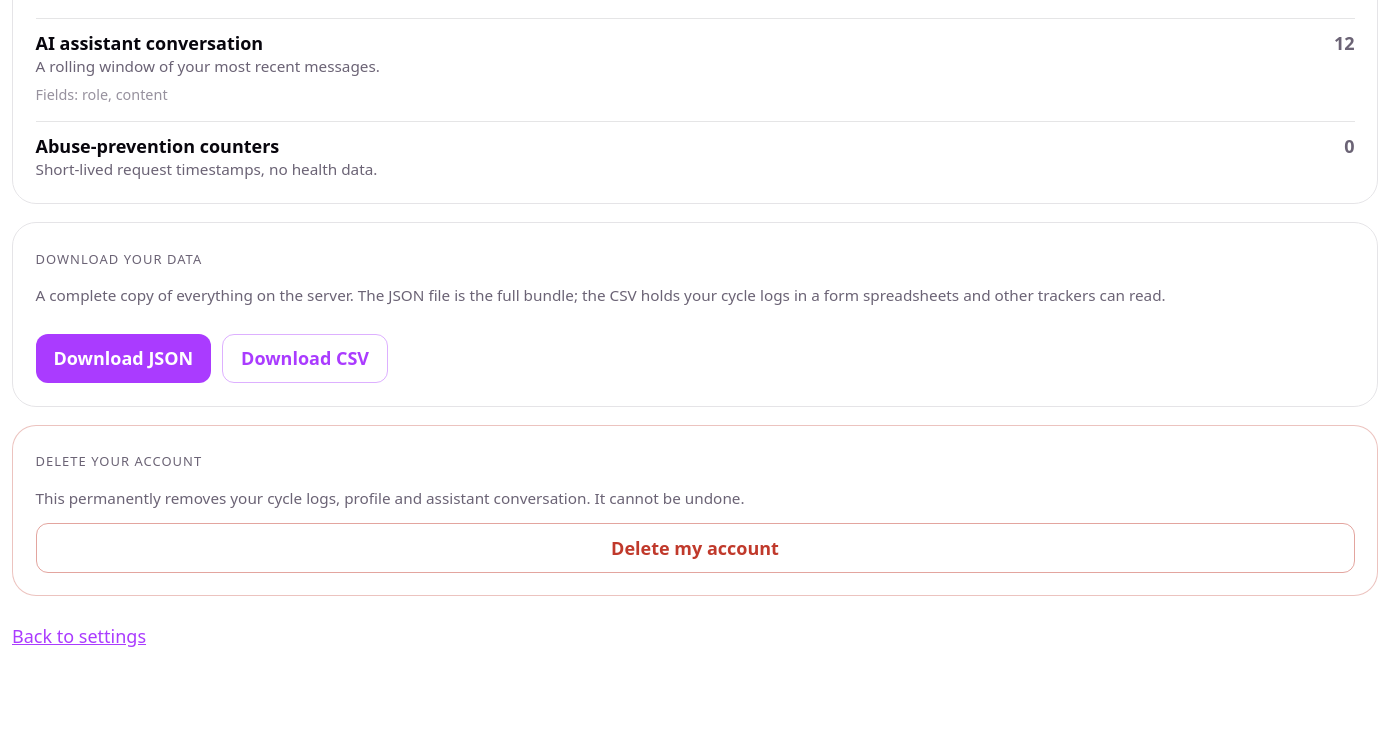
Test: deletion › shows the server's warning and what will be destroyed
(page scrolled)
Click the button "Delete my account": (695, 548) top-left (36, 523), bottom-right (1354, 572)
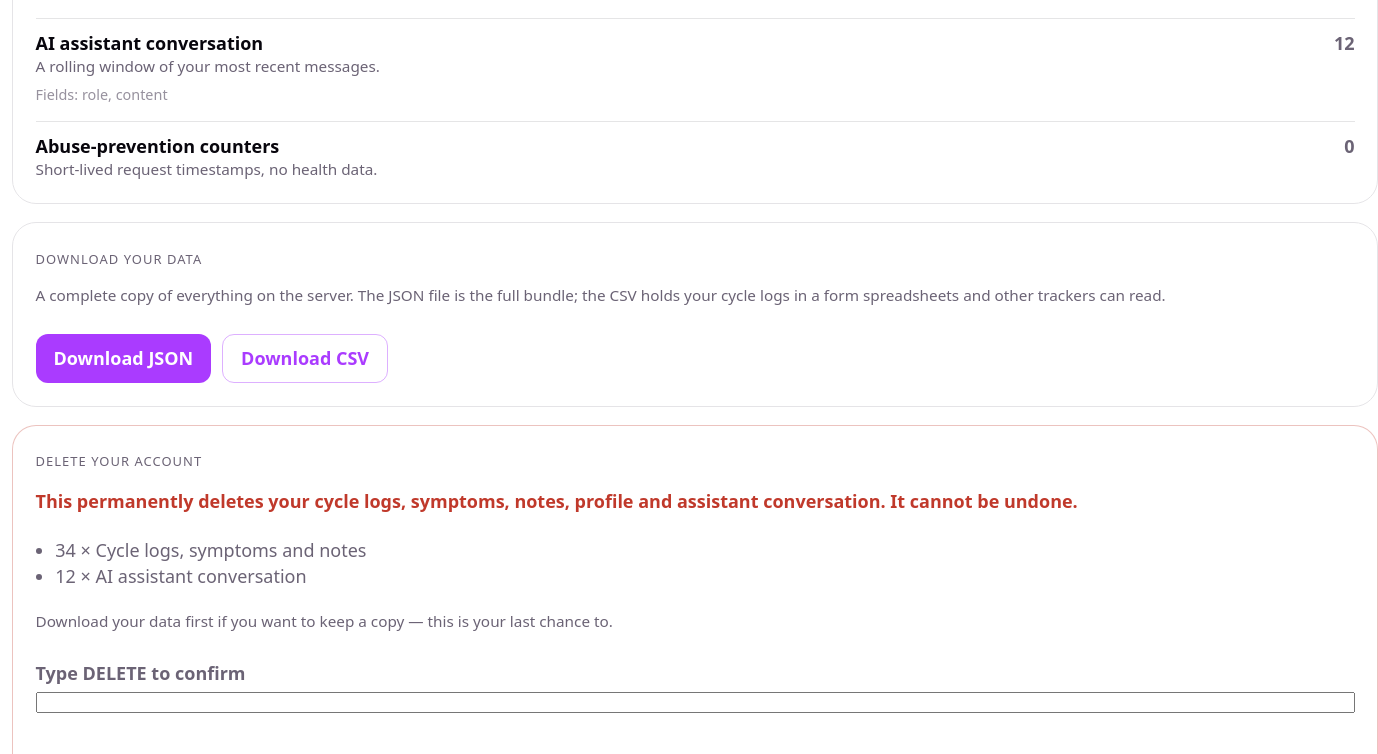
Expected: the text "It cannot be undone" is shown, top-left (36, 489), bottom-right (1078, 513)
Result: the list item "34 × Cycle logs, symptoms and notes" is shown at top-left (55, 538), bottom-right (366, 562)
